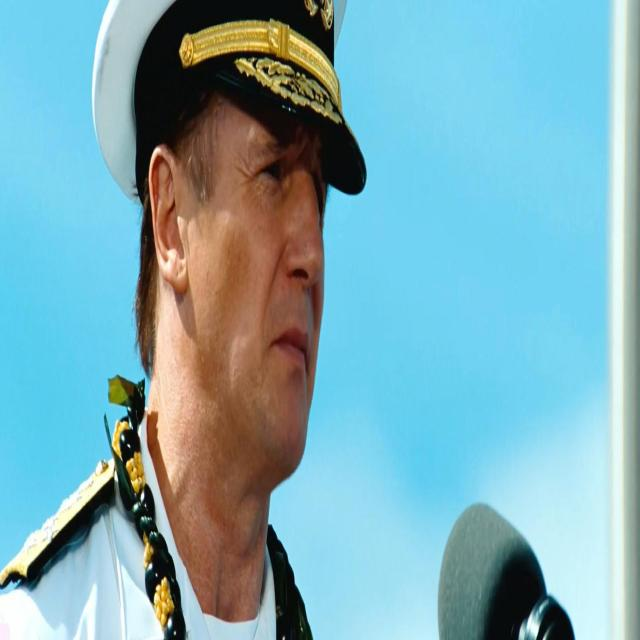no-earmuff: (147, 143, 188, 292)
